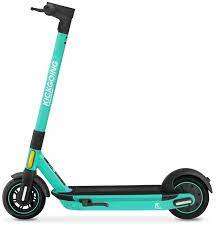kick_board: (4, 3, 213, 219)
kick_body: (65, 185, 163, 208)
kick_handler: (31, 2, 75, 32)
kick_neck: (26, 34, 68, 165)
kick_wheel: (162, 168, 212, 219), (2, 171, 48, 219)
